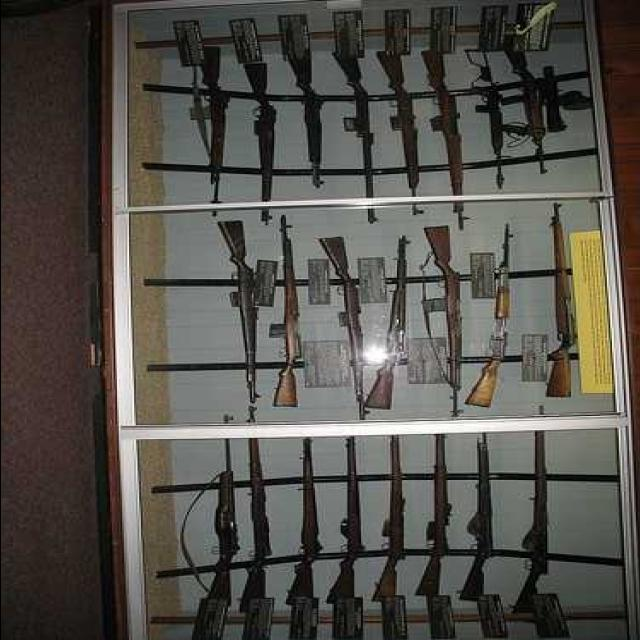heavyweapon: (520, 201, 608, 415), (460, 197, 532, 417), (400, 227, 474, 419), (303, 227, 375, 415)
